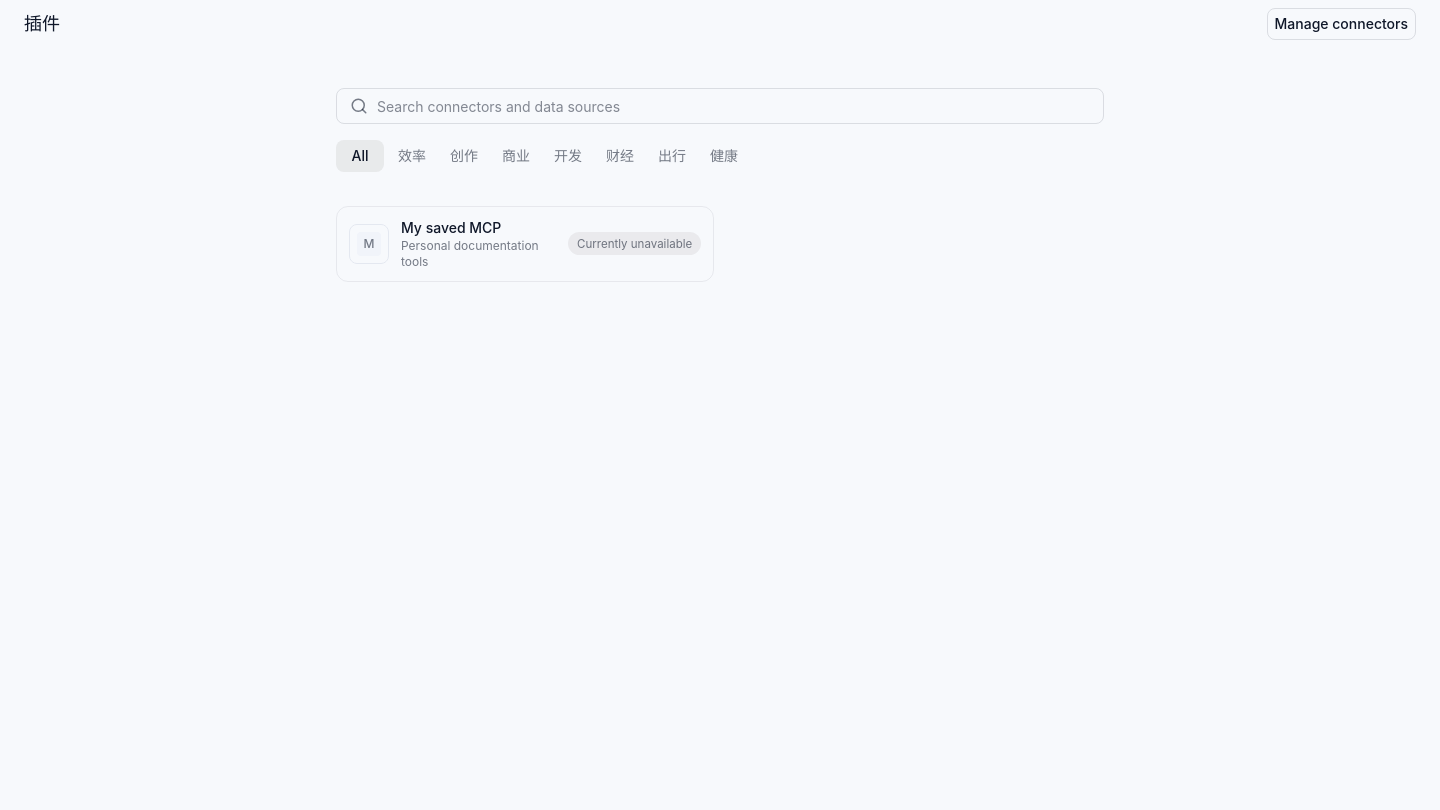
Test: shows a second-page saved MCP in an empty provider plaza and opens only its exact fresh detail
The width and height of the screenshot is (1440, 810).
Click the button "My saved MCP": (525, 244) [337,207,713,281]
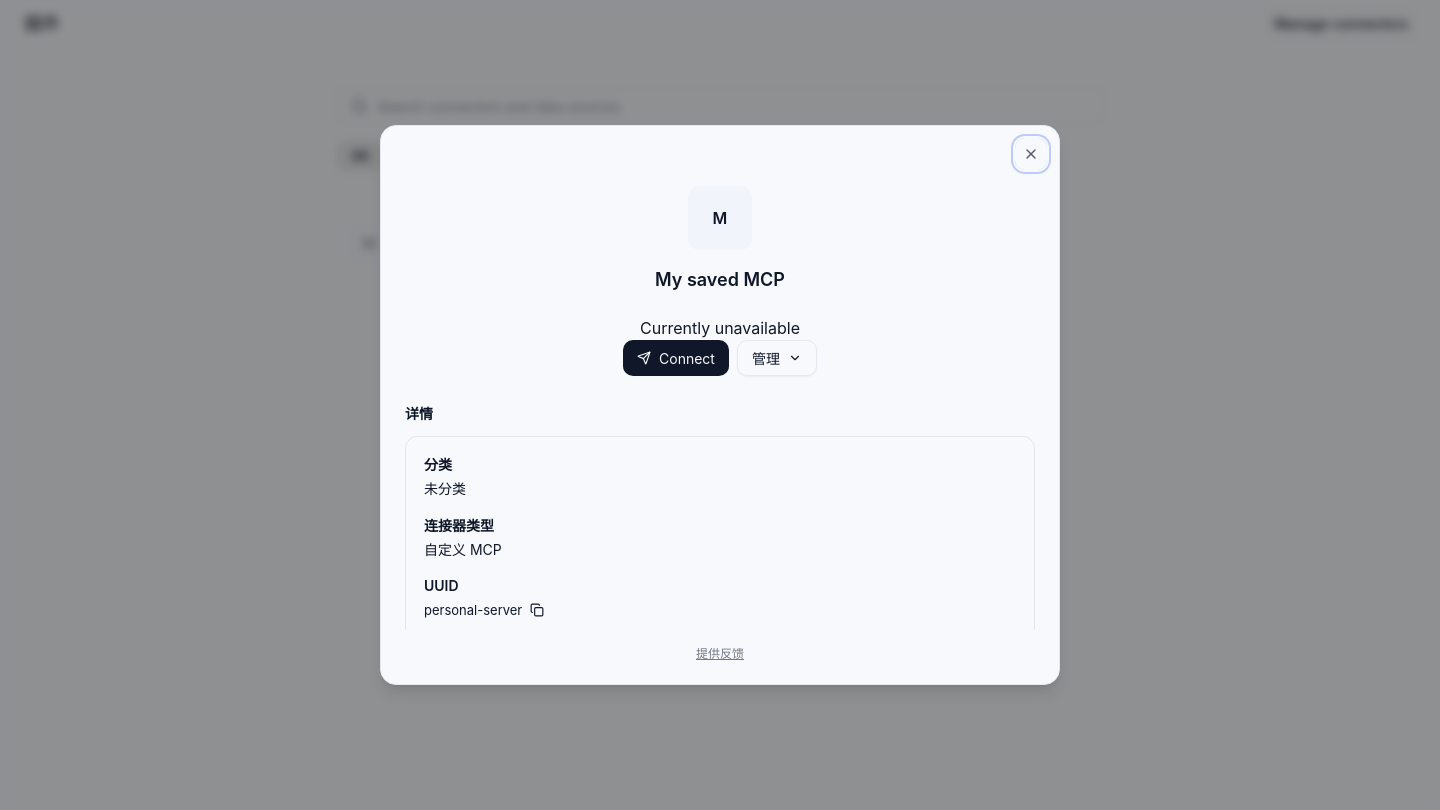
Check: the dialog is shown, box [380,125,1060,685]
